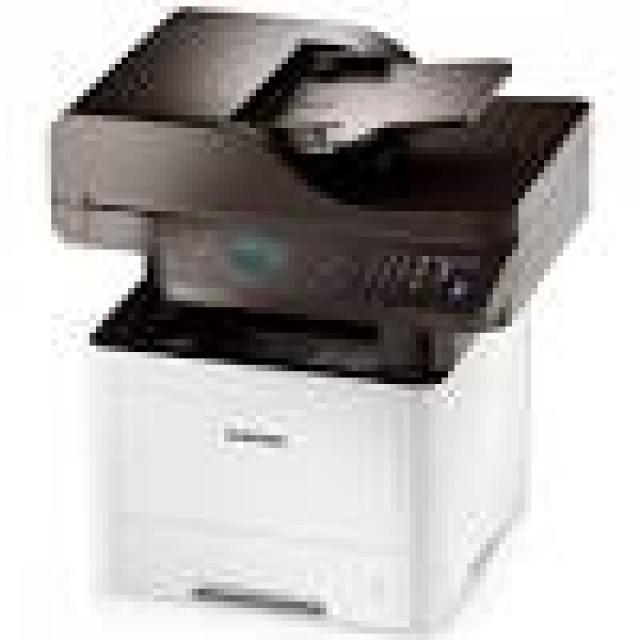printer: (37, 2, 600, 631)
